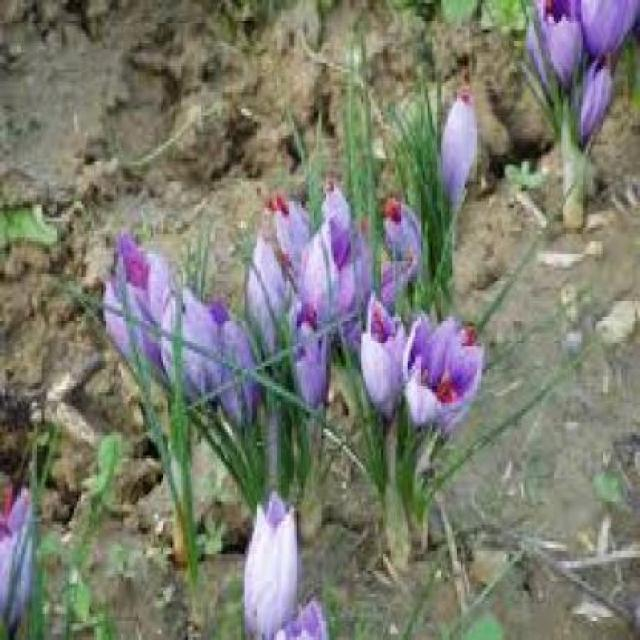Flower: (406, 304, 486, 444), (241, 489, 302, 640), (425, 91, 480, 211)
